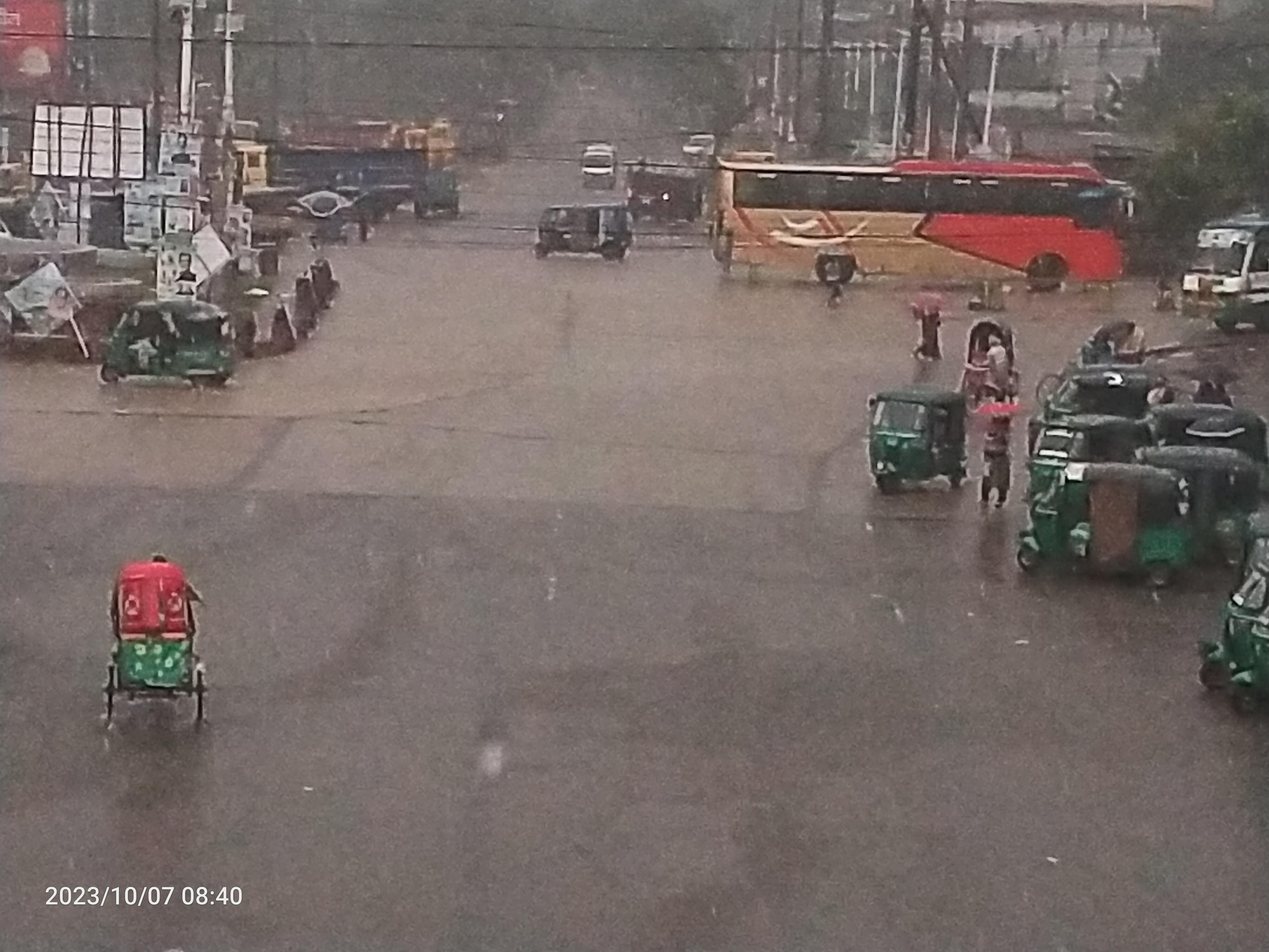Bus: (689, 127, 1150, 327), (1157, 199, 1269, 347)
Car: (54, 526, 248, 754), (950, 303, 1018, 406), (573, 134, 624, 196)
Truck: (206, 125, 447, 211)
